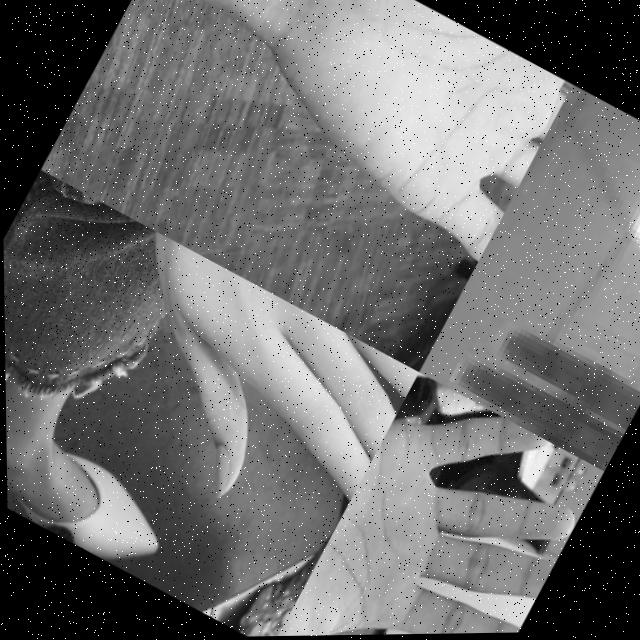hand: (4, 201, 419, 557), (193, 0, 573, 296), (264, 371, 604, 637), (420, 223, 640, 475)
